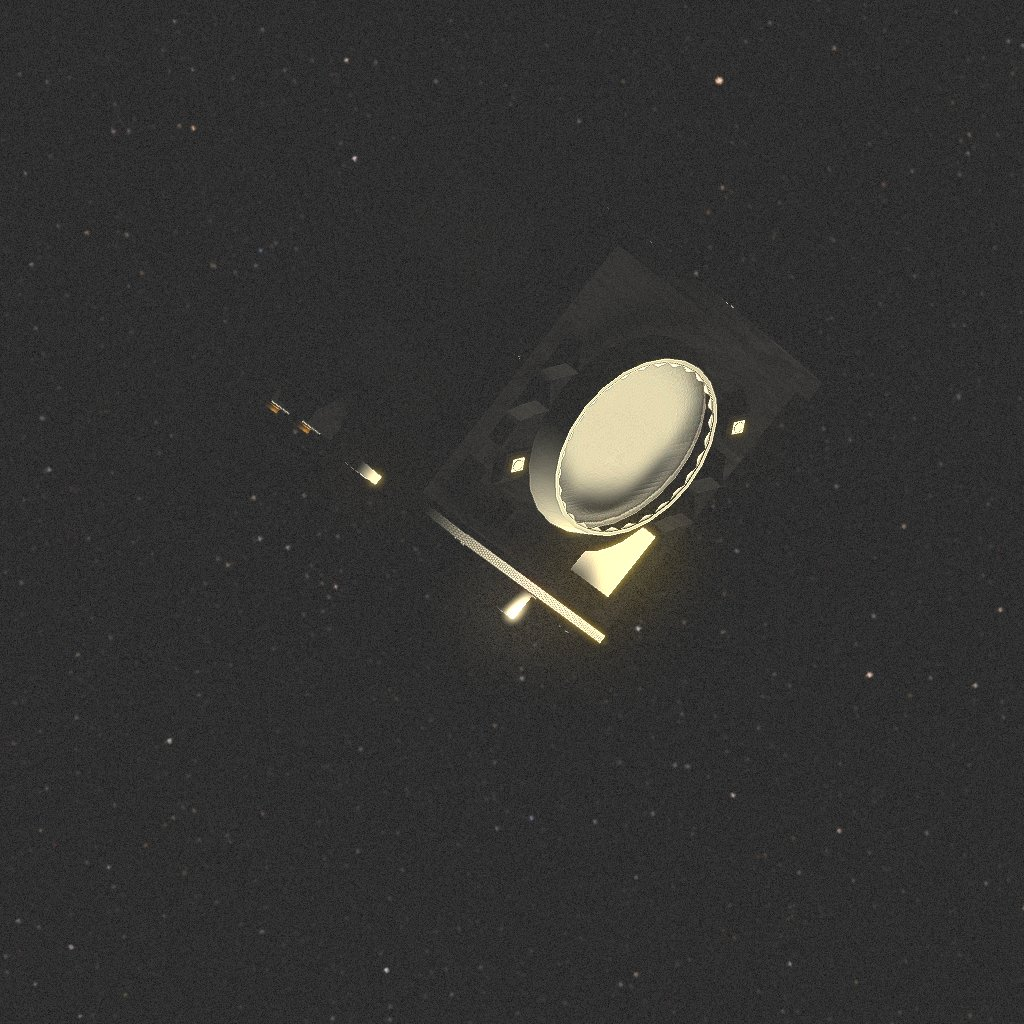proba_3_ocs: (249, 105, 821, 643)
